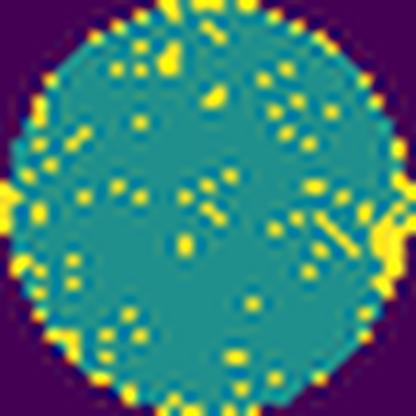Edge-Loc: (359, 164, 415, 304)
